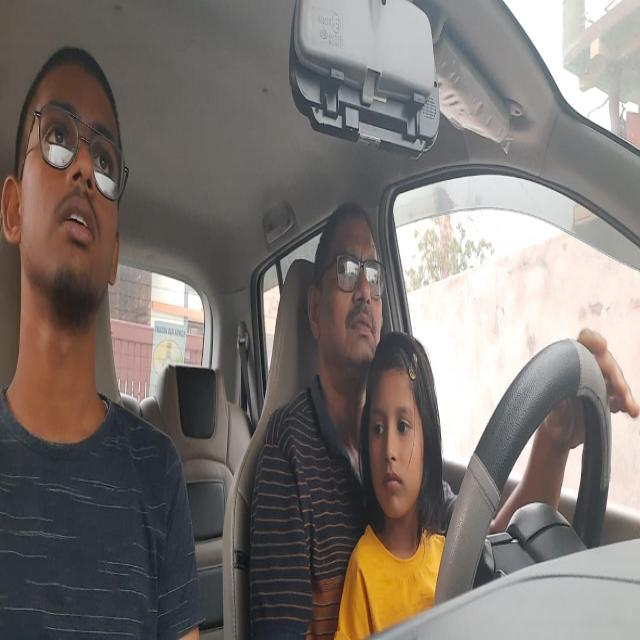child: (358, 338, 441, 529)
person: (2, 31, 134, 330), (308, 190, 392, 374)
